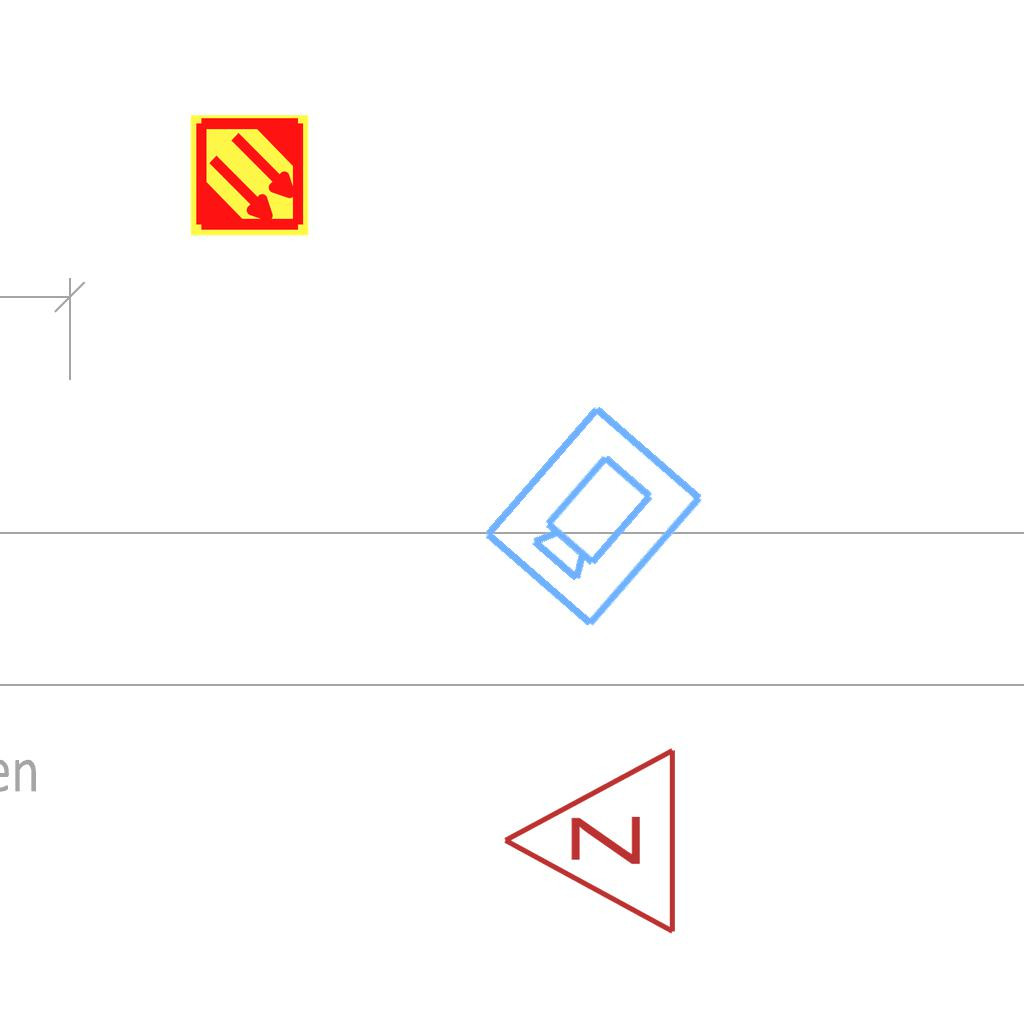ASR_Ansaugrauchmelder: (187, 113, 312, 238)
KFO_Kamera_mit_Festobjektiv: (475, 395, 711, 635)
Zimmersignalleuchte: (490, 745, 690, 941)
